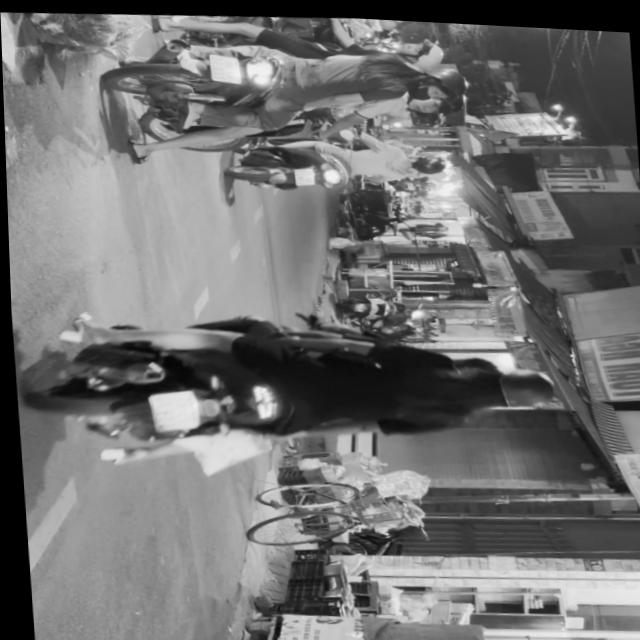helmet: (474, 358, 556, 410), (409, 59, 469, 98), (409, 149, 448, 172)
licenseplate: (8, 288, 564, 493), (100, 8, 482, 170), (224, 123, 452, 198)
nohelmet: (148, 387, 198, 433), (211, 52, 243, 80), (294, 163, 315, 183)
